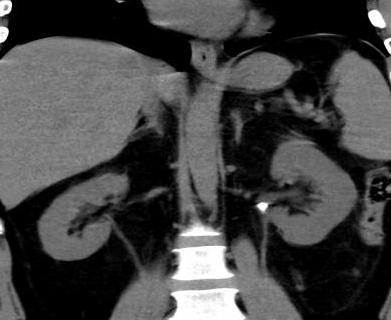Tas_Var: (258, 200, 268, 213)
